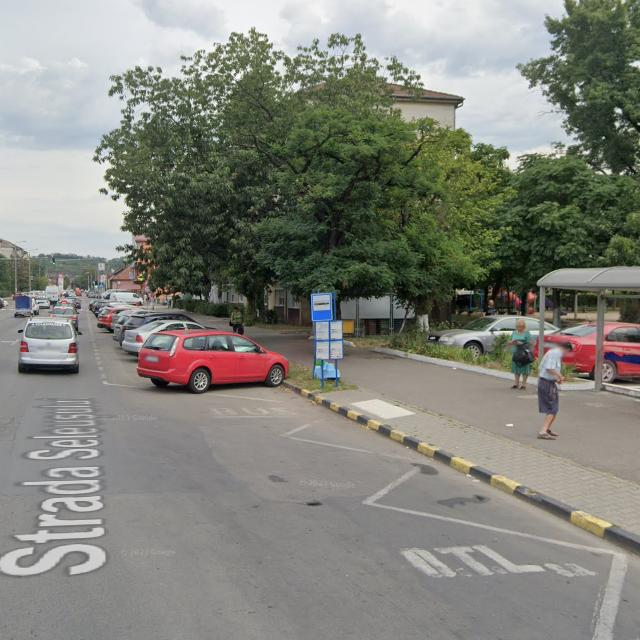info_bus_station: (311, 292, 334, 322)
